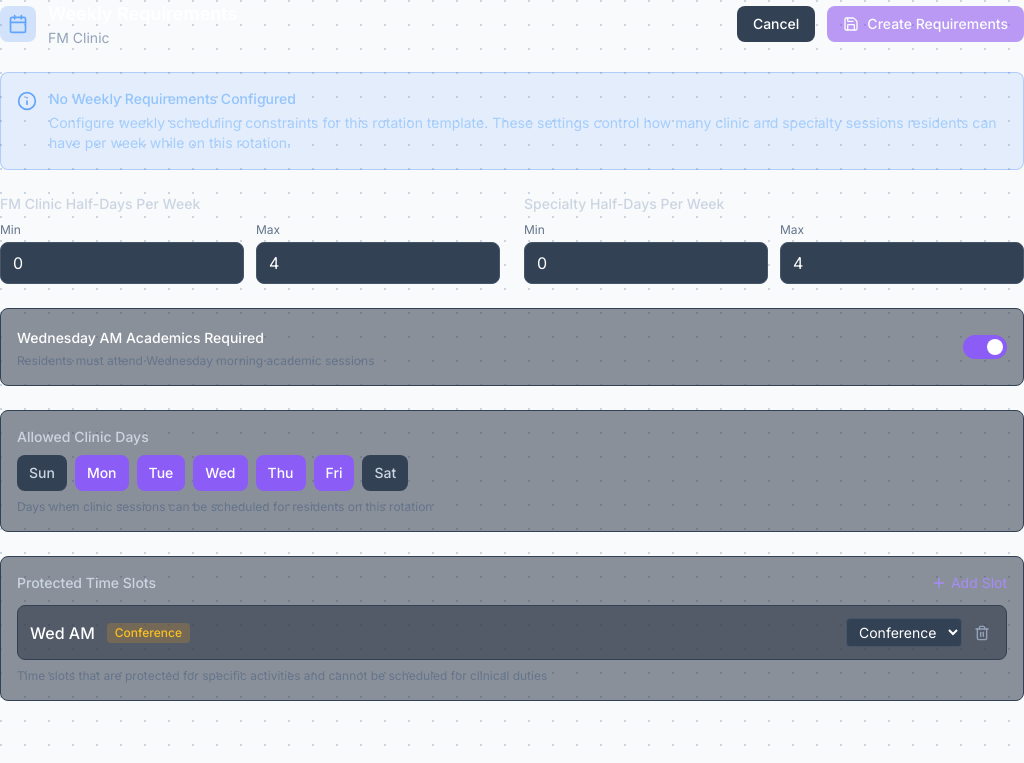
Test: WeeklyRequirementsEditor › Min/Max Validation › clears error when valid values entered
# Create error
Replace the text in the 1st number field with "10" at (122, 263), box [0, 242, 244, 284]
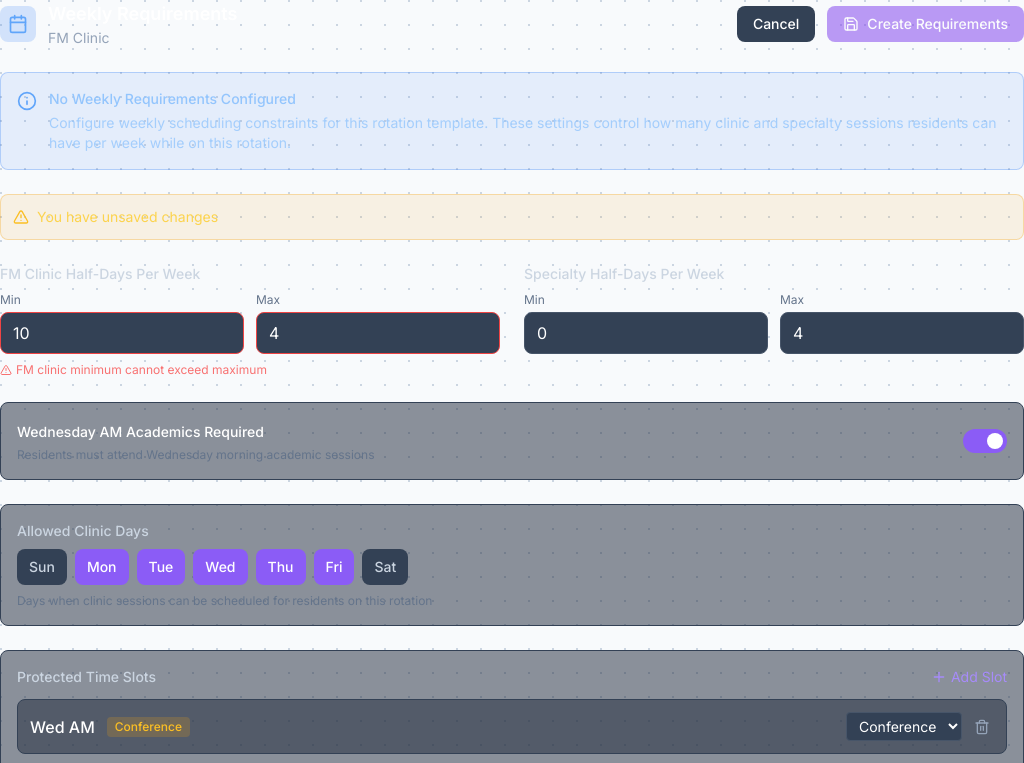
Replace the text in the 2nd number field with "5" at (378, 333), box [256, 312, 500, 354]
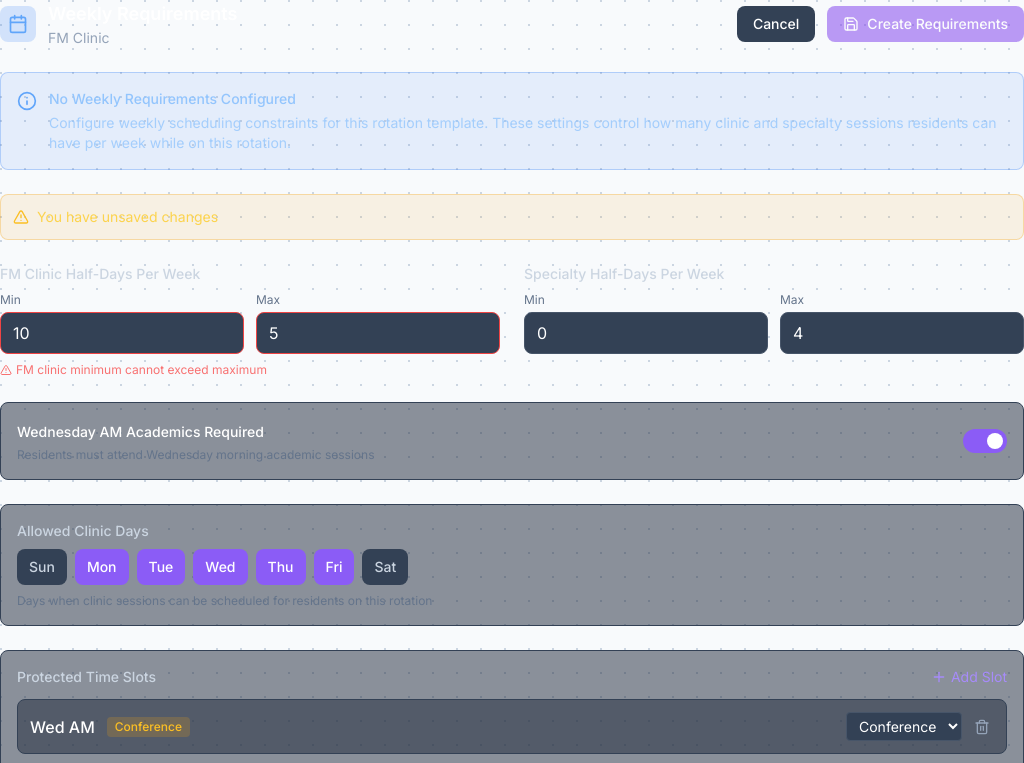
Check: the text "FM clinic minimum cannot exceed maximum" is shown, box [0, 362, 267, 377]
# Fix error
Replace the text in the 1st number field with "2" at (122, 333), box [0, 312, 244, 354]
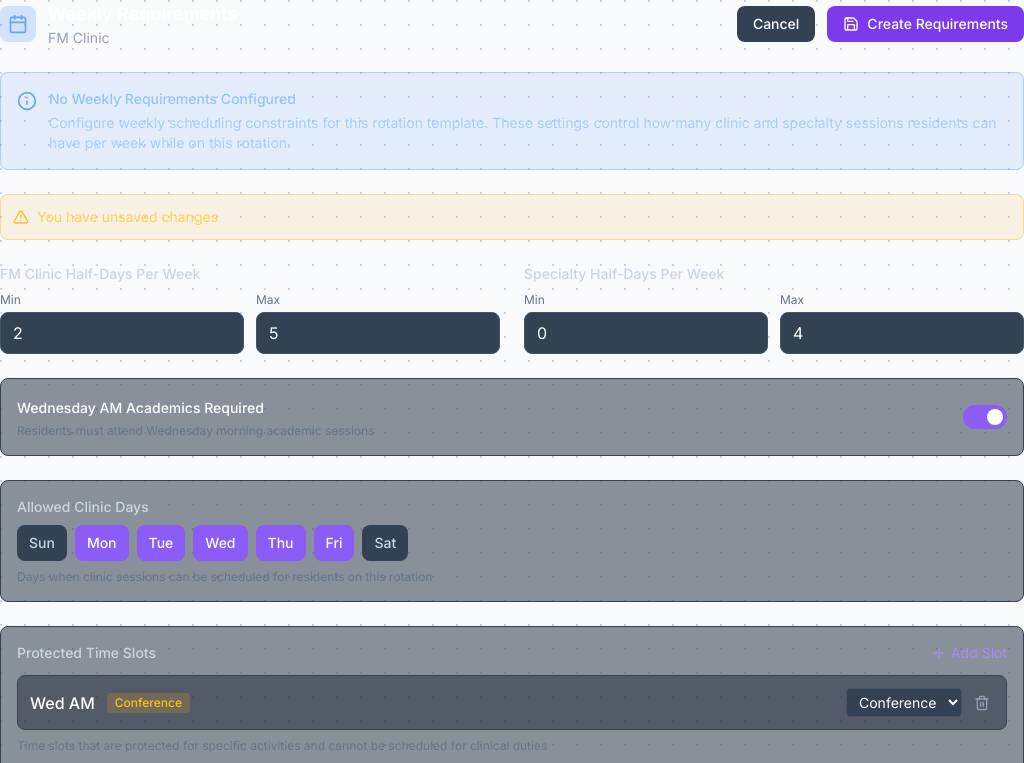
Check: the text "FM clinic minimum cannot exceed maximum" is gone
